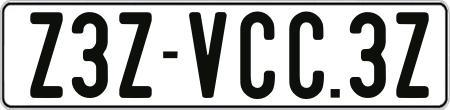3: (348, 11, 387, 99), (70, 10, 107, 98)
C: (286, 10, 326, 103), (240, 10, 276, 103)
V: (189, 9, 230, 100)
Z: (393, 9, 432, 96), (29, 10, 67, 96), (119, 12, 155, 102)
